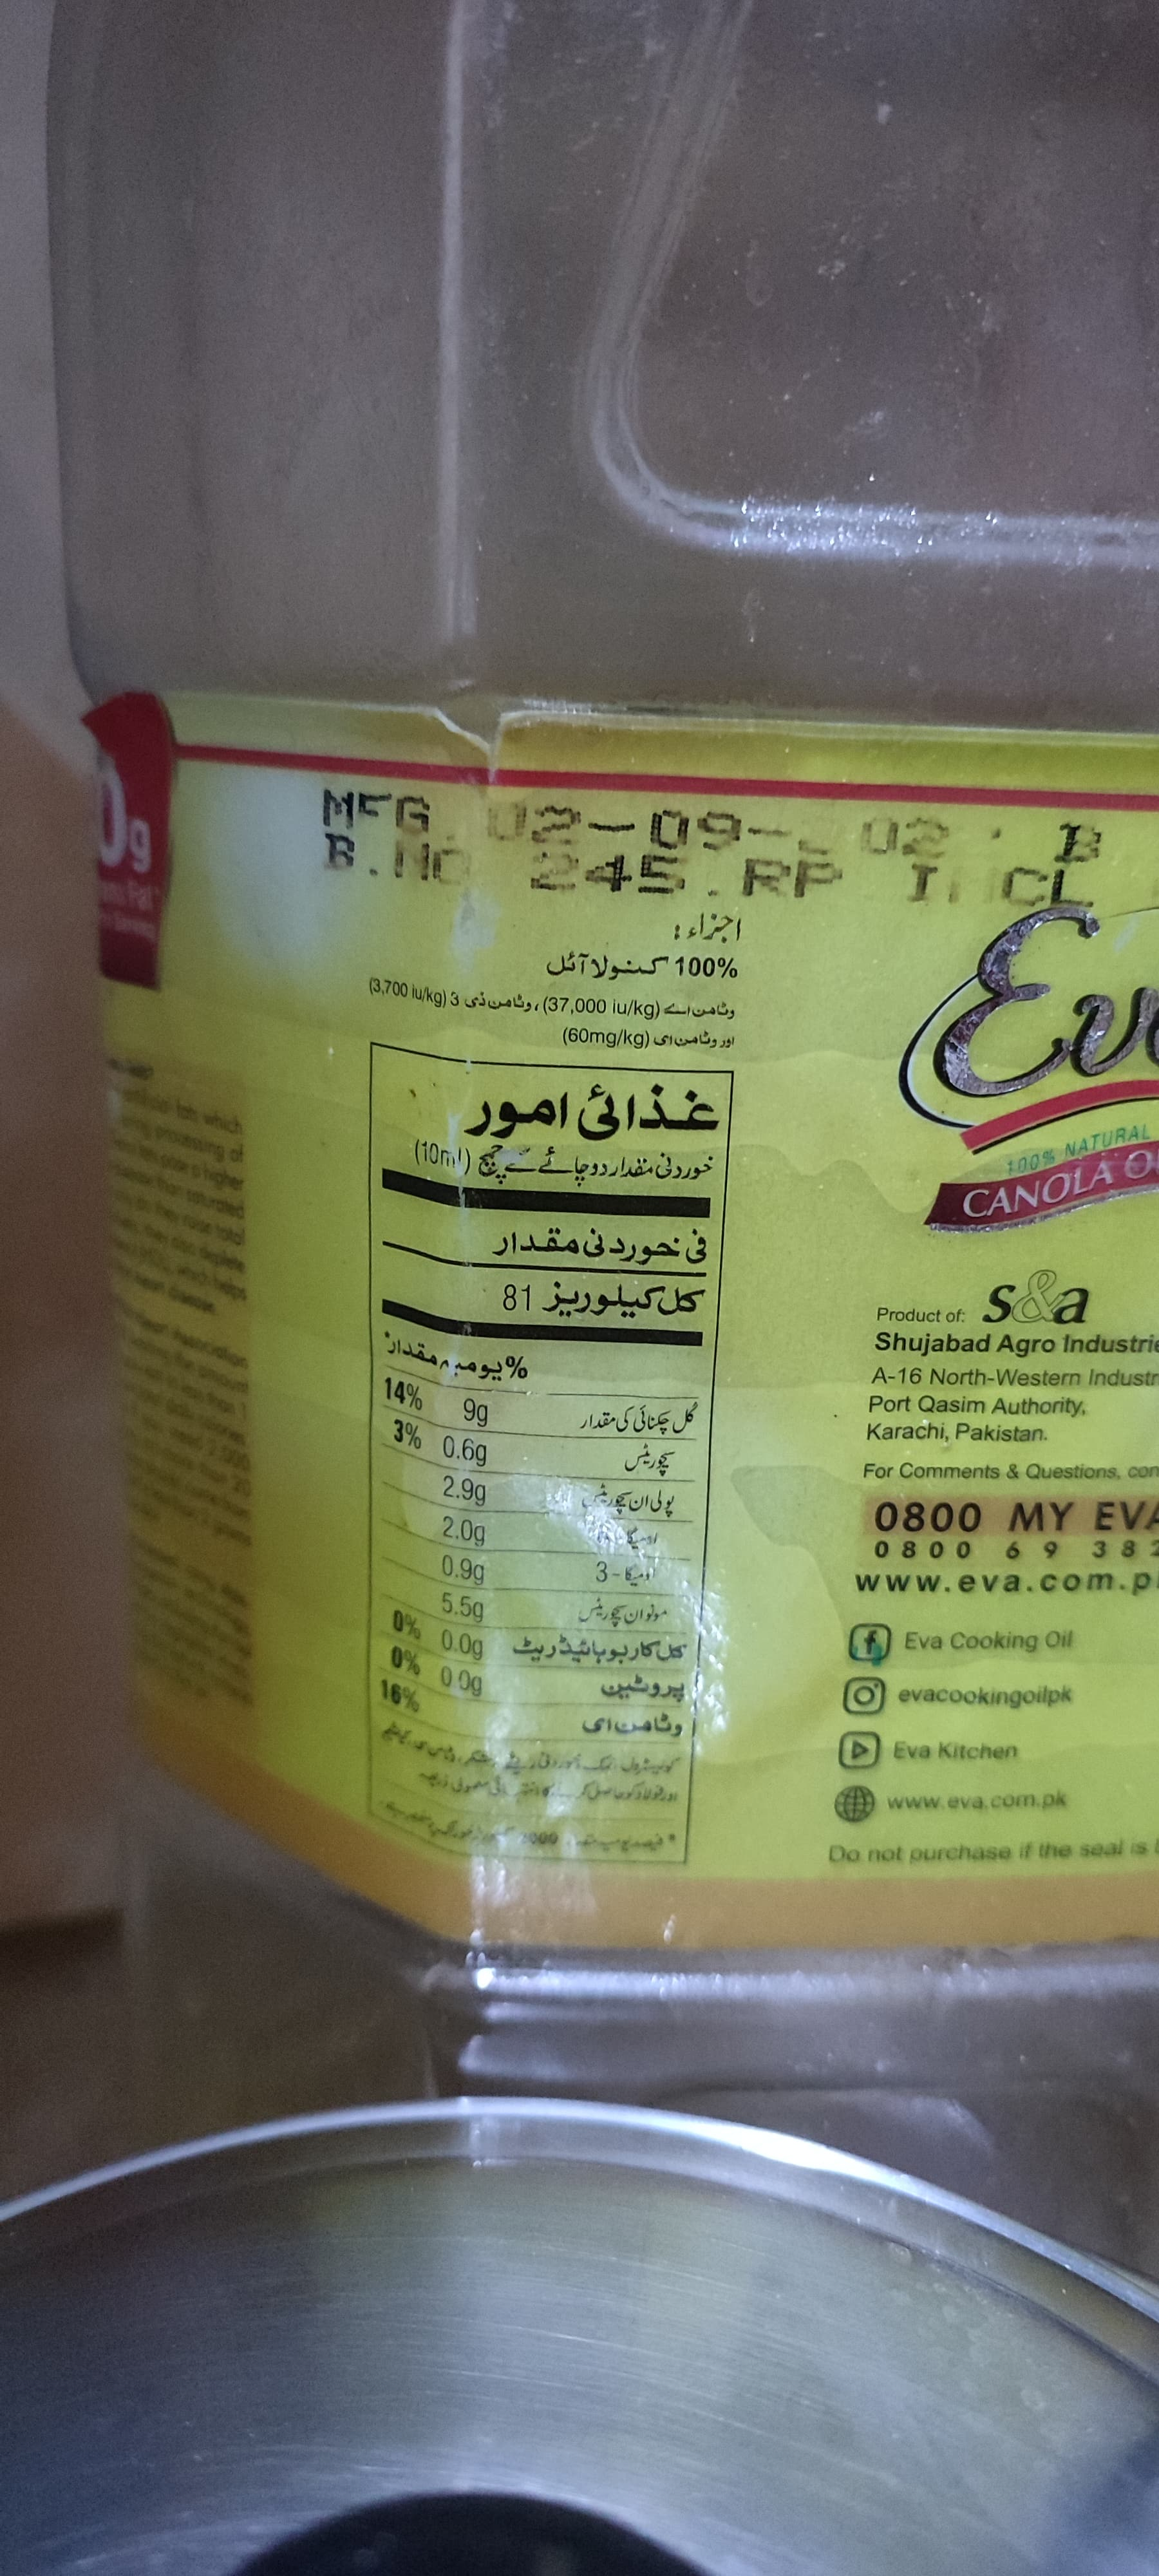table: (353, 1042, 714, 1881)
